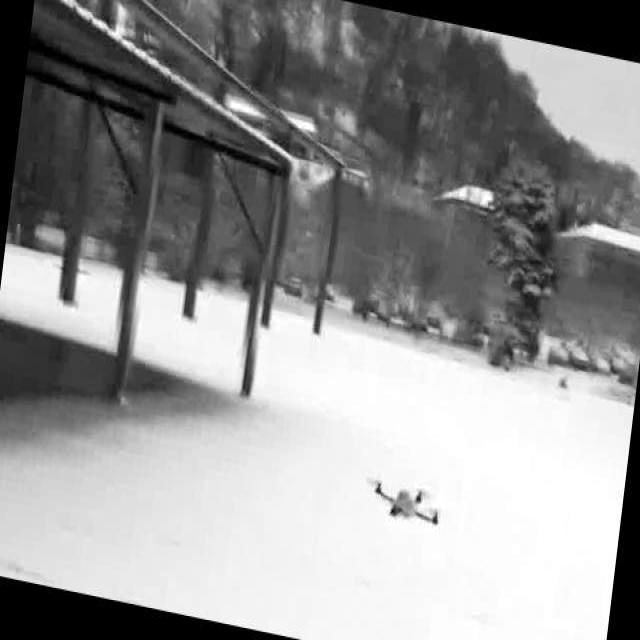drone: (355, 462, 450, 546)
